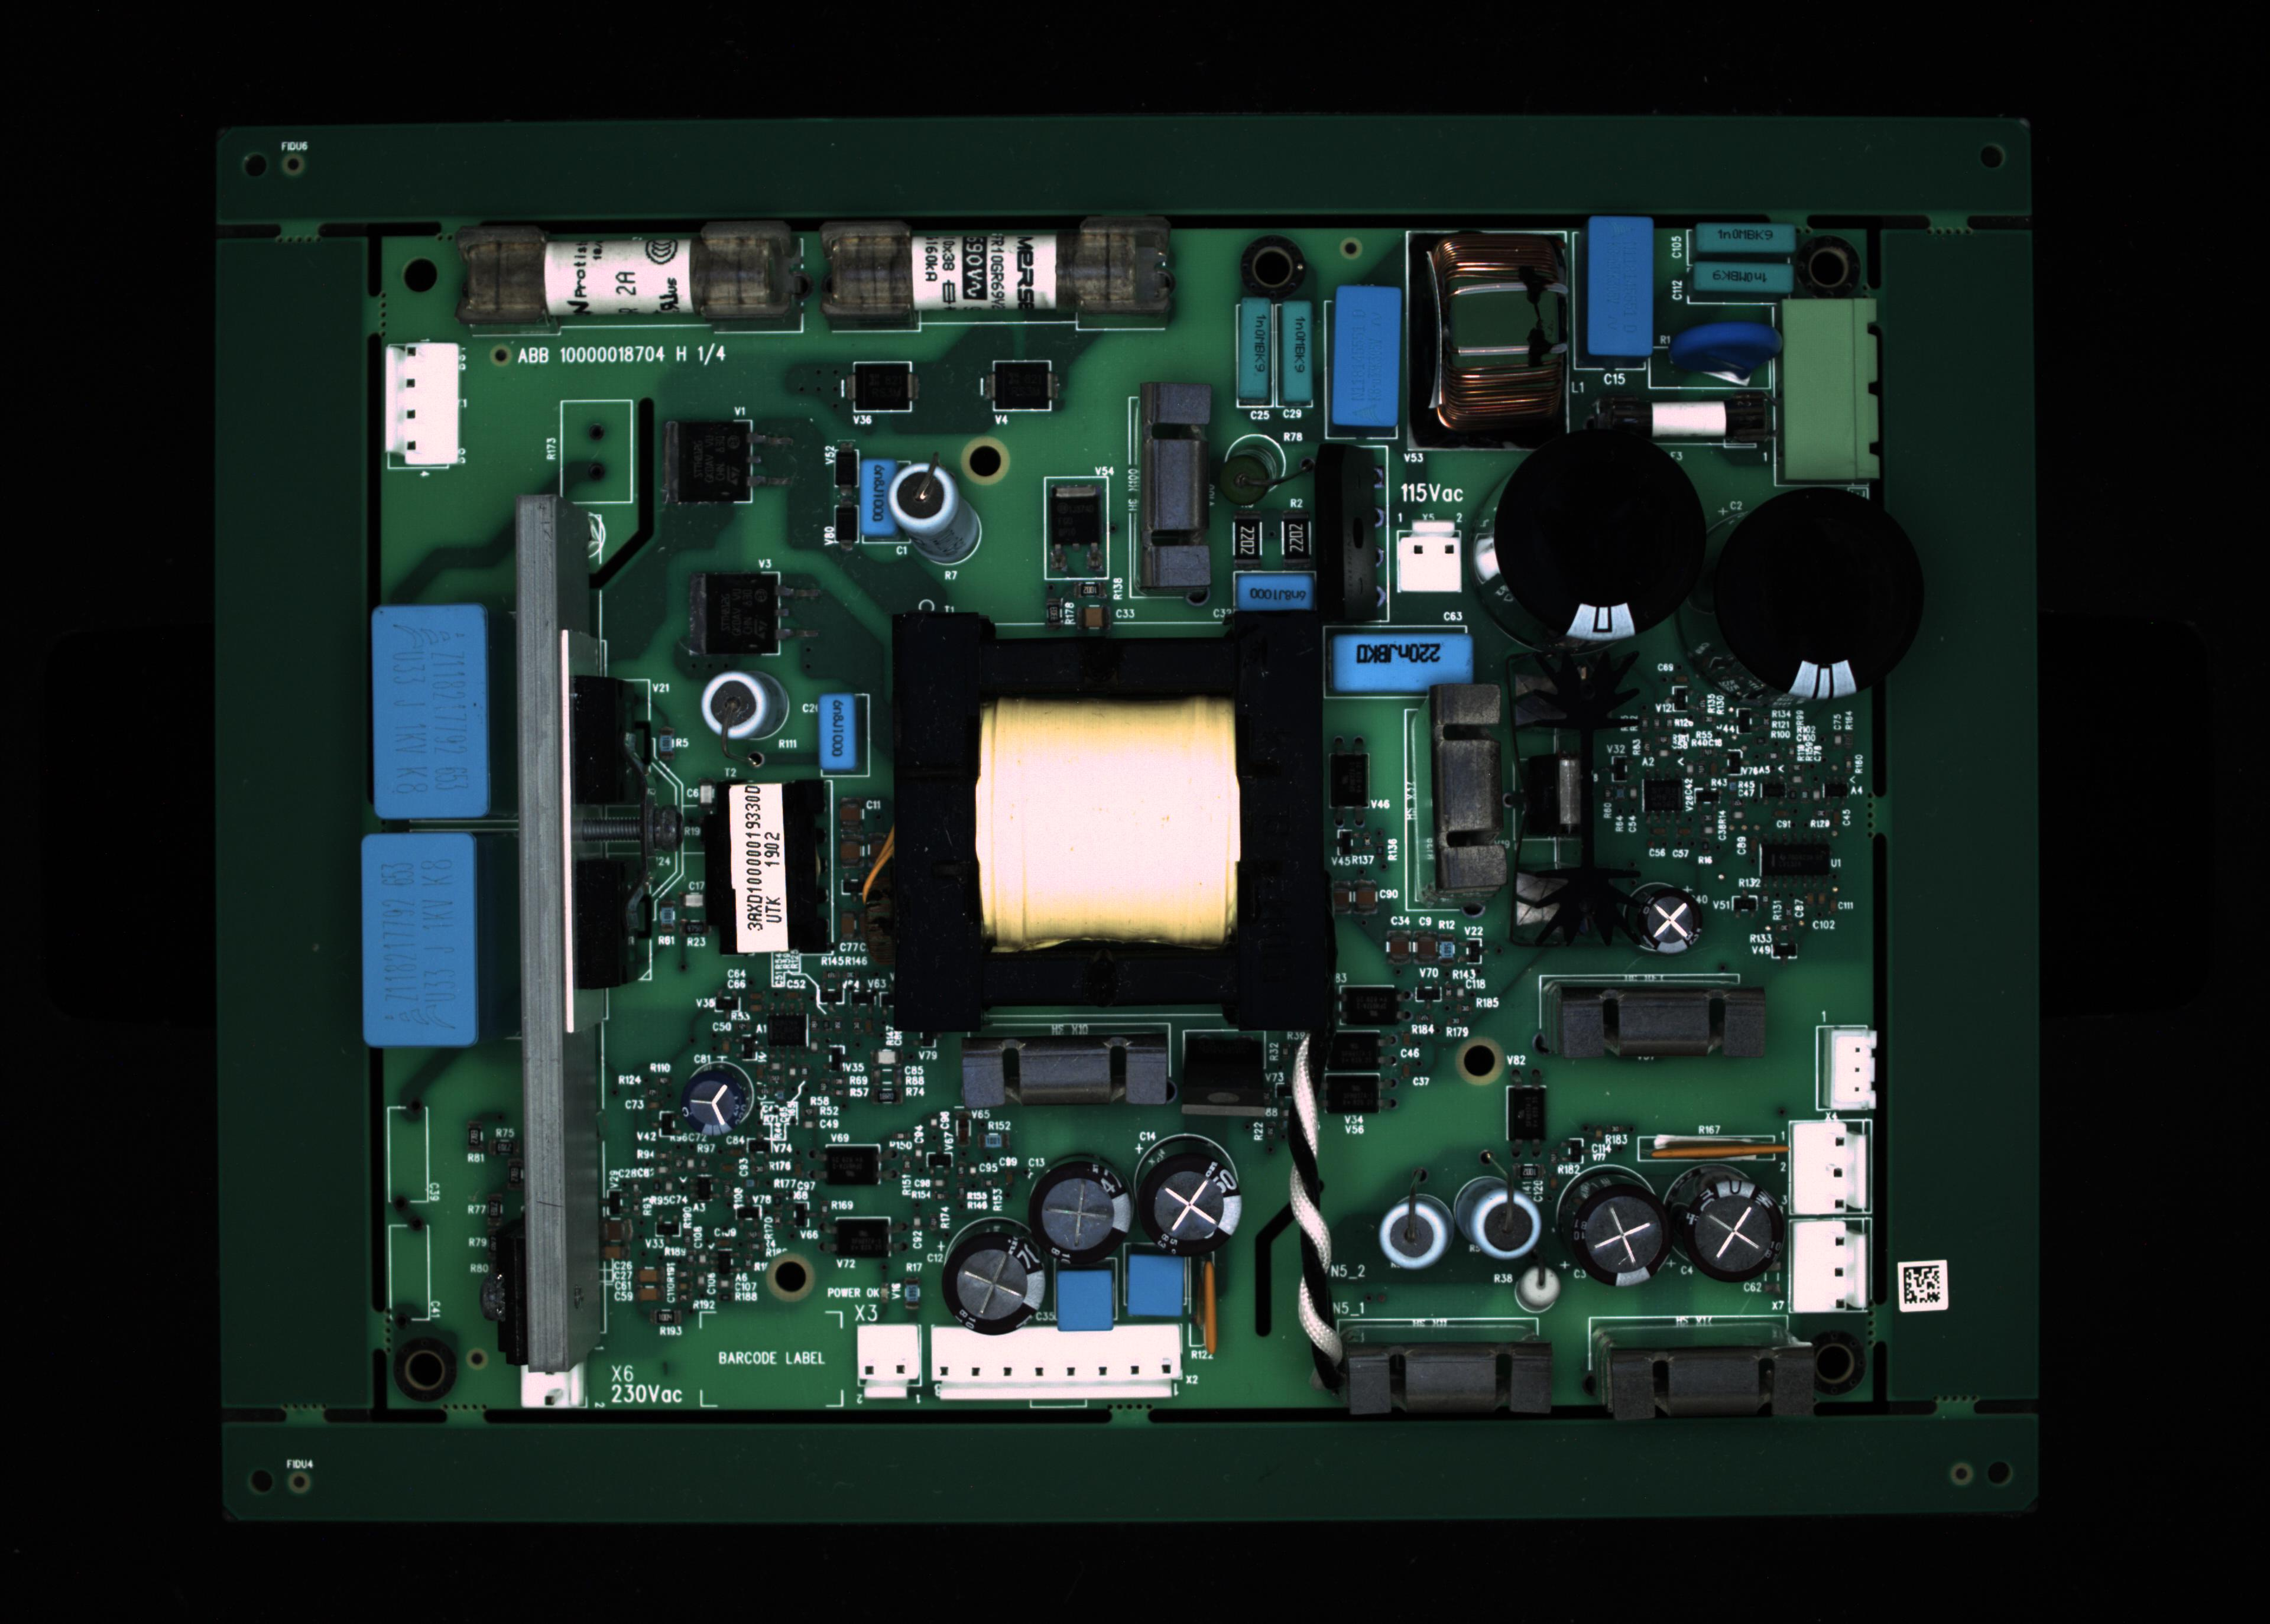10_p: (1648, 346, 1772, 394)
11_q: (1781, 295, 1888, 480)
12_r: (1591, 387, 1776, 455)
13_s: (380, 337, 457, 469)
15_e: (856, 460, 897, 536)
16_k: (891, 464, 985, 569)
17_u: (1138, 385, 1206, 589)
18_v: (1236, 569, 1317, 613)
19_w: (1340, 633, 1465, 689)
1_a: (455, 218, 805, 325)
20_f: (1393, 517, 1470, 599)
21_g: (1475, 429, 1709, 670)
22_g: (1709, 483, 1925, 698)
23_h: (369, 605, 484, 817)
24_h: (364, 830, 482, 1051)
25_f: (515, 1364, 582, 1413)
26_f: (849, 1323, 925, 1403)
27_x: (925, 1323, 1183, 1397)
28_i: (1136, 1144, 1240, 1253)
29_i: (1027, 1153, 1134, 1274)
2_a: (819, 216, 1169, 322)
30_i: (941, 1216, 1055, 1339)
31_j: (1050, 1267, 1120, 1339)
32_j: (1115, 1237, 1197, 1329)
33_e: (818, 692, 856, 772)
34_k: (1373, 1181, 1465, 1281)
35_k: (1456, 1174, 1542, 1269)
36_i: (1556, 1164, 1672, 1295)
37_i: (1663, 1160, 1786, 1290)
38_l: (1335, 1343, 1560, 1422)
39_l: (1581, 1339, 1823, 1418)
3_b: (1238, 295, 1270, 399)
40_l: (1539, 977, 1771, 1069)
41_y: (1407, 678, 1505, 919)
42_z: (1825, 1030, 1876, 1113)
43_m: (1792, 1120, 1869, 1216)
44_m: (1788, 1225, 1876, 1311)
45_i: (679, 1065, 756, 1142)
46_n: (1338, 982, 1403, 1026)
47_n: (823, 1142, 881, 1190)
48_n: (833, 1214, 891, 1265)
49_aa: (767, 1007, 812, 1051)
4_b: (1285, 299, 1317, 399)
50_n: (1326, 1030, 1387, 1069)
51_n: (1322, 1072, 1380, 1118)
52_ab: (1329, 740, 1377, 831)
53_ac: (1656, 1130, 1790, 1165)
54_ad: (1194, 1253, 1222, 1364)
55_l: (960, 1040, 1175, 1118)
56_ae: (1176, 1025, 1270, 1107)
57_af: (1509, 647, 1635, 951)
58_i: (1630, 884, 1706, 958)
59_o: (992, 359, 1053, 411)
5_c: (1329, 286, 1400, 429)
60_o: (853, 362, 909, 410)
6_6: (1405, 232, 1572, 452)
7_c: (1586, 214, 1653, 353)
8_d: (1686, 227, 1792, 260)
9_d: (1692, 262, 1793, 294)
